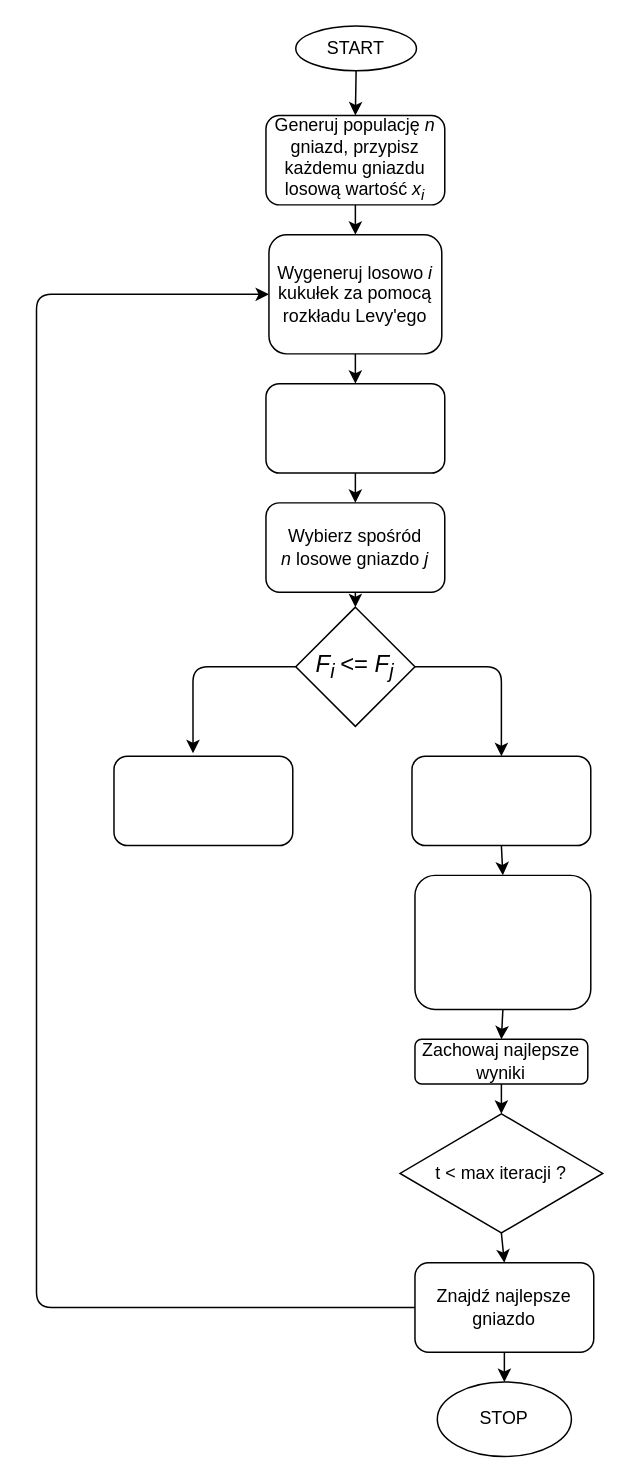
The diagram is 629 pixels wide and 1483 high, and some of its shapes have lost their labels. Each missing label, with the box of its shape:
Oceń dopasowanie F i: (264, 382, 445, 473)
Porzuć zbiór najgorszych gniazd P a i zbuduj nowe za pomocą rozkładu Levy'ego: (413, 874, 591, 1009)
Weź j jako rozwiązanie: (112, 755, 293, 846)
Zamień j na nową kukułkę: (410, 755, 591, 846)
